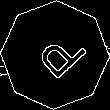P_SW: (24, 24, 86, 86)
